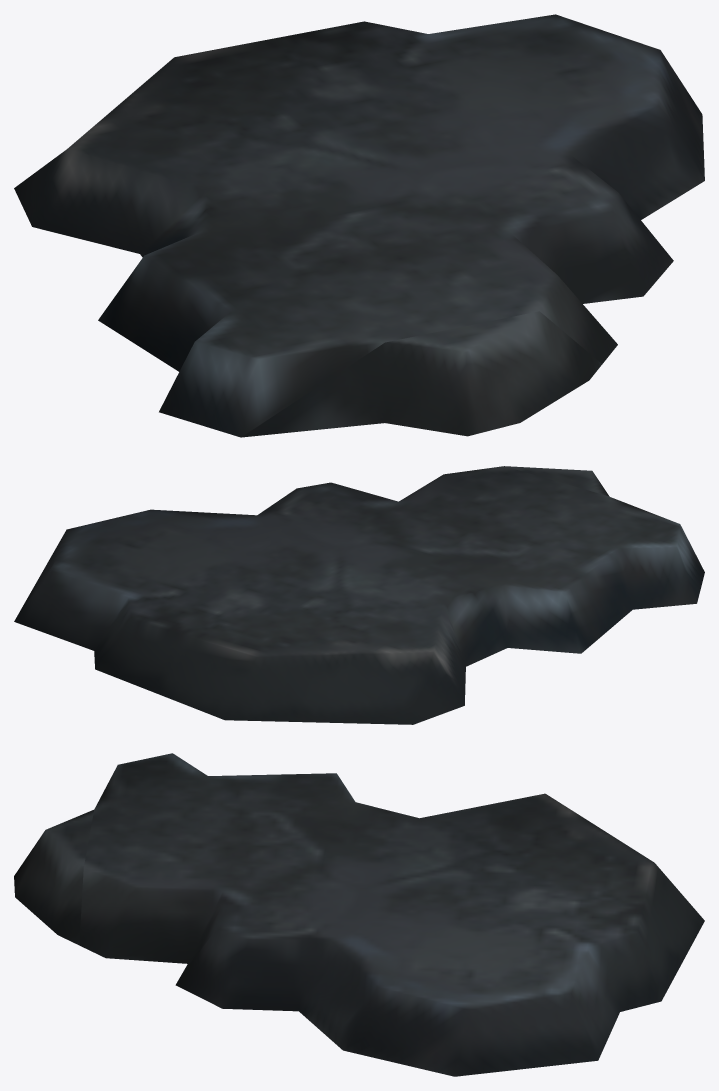
File: Mine_xiaoshitou02.FBX
3 views of the same model, one above another, from view 1: azimuth 30°, elevation 25°; view 2: azimuth 150°, elevation 25°; view 3: azimuth 270°, elevation 25° (orthographic). The views are drawn at different scales.
Parts seen in each view (by area): view 1: xiaoshitou02; view 2: xiaoshitou02; view 3: xiaoshitou02.
Part boxes in pixels (box(x1,y1,x2,y2)): xiaoshitou02: box(14, 14, 704, 437); xiaoshitou02: box(14, 466, 704, 724); xiaoshitou02: box(14, 753, 704, 1076).
Bounding box in the file's own units: 76.97 × 6.8 × 79.52.
